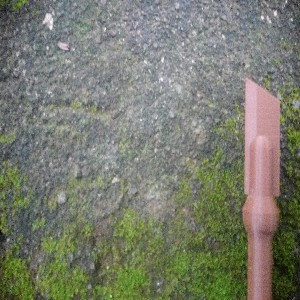cutter: (240, 75, 282, 300)
